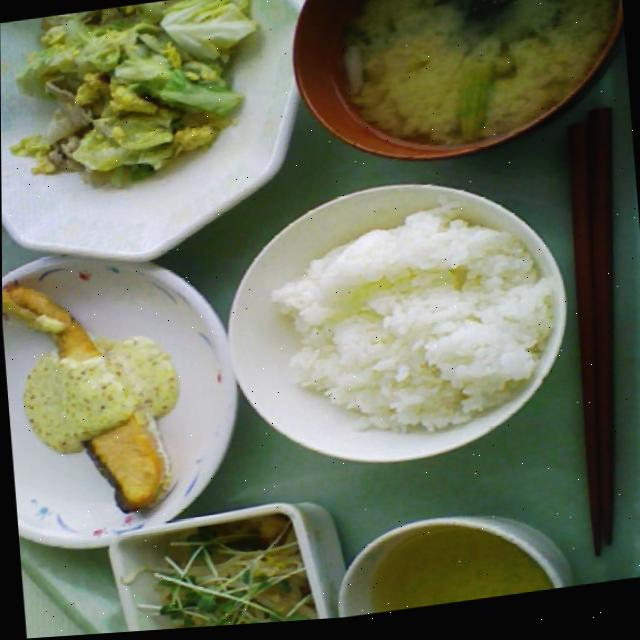米饭主食: (257, 195, 564, 469)
